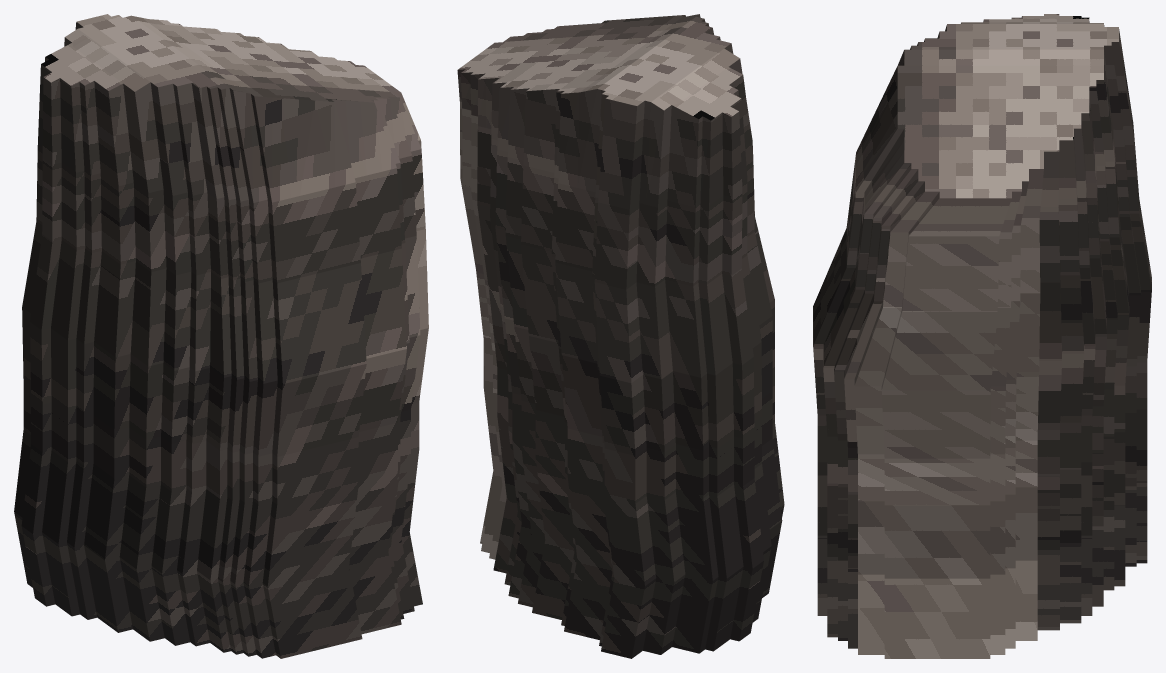
Rendered from monolith_894x04.gltf.
The picture shows the model from 3 angles, left to right: view 1: azimuth 30°, elevation 25°; view 2: azimuth 150°, elevation 25°; view 3: azimuth 270°, elevation 25°; orthographic projection. The views are drawn at different scales.
Parts seen in each view (by area): view 1: monolith_894x04; view 2: monolith_894x04; view 3: monolith_894x04.
Boxes of the visible parts, left/top/right/bottom form: monolith_894x04: left=14, top=14, right=428, bottom=658; monolith_894x04: left=457, top=14, right=784, bottom=658; monolith_894x04: left=813, top=14, right=1151, bottom=658.
Bounding box in the file's own units: 2.44 × 3.89 × 2.27.
Materials: 1 (1 with a texture image).
